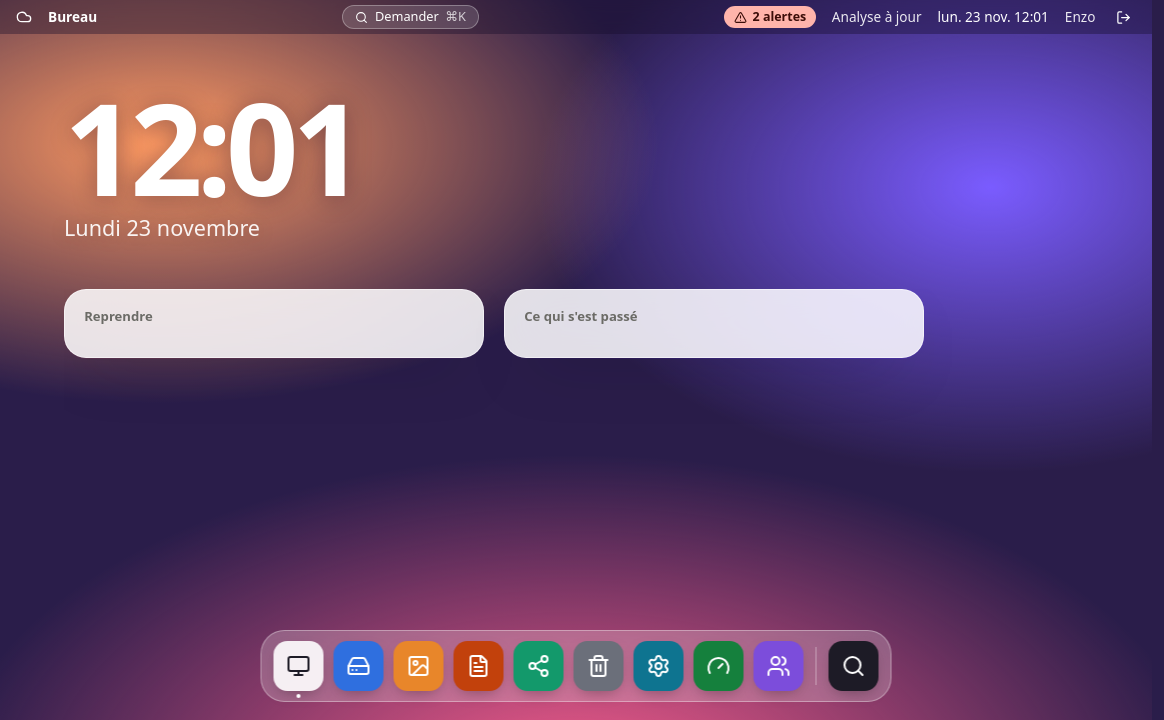
Test: Desktop › shows the admin a badge of alerts that opens État de la box, instead of a backup status it did not know
The width and height of the screenshot is (1164, 720).
What coordinates should you click on to do the following:
click the button with aria-label "2 alertes : voir l’état de la box"
I would click on:
 (770, 17)
Its box is [724,6,816,28].
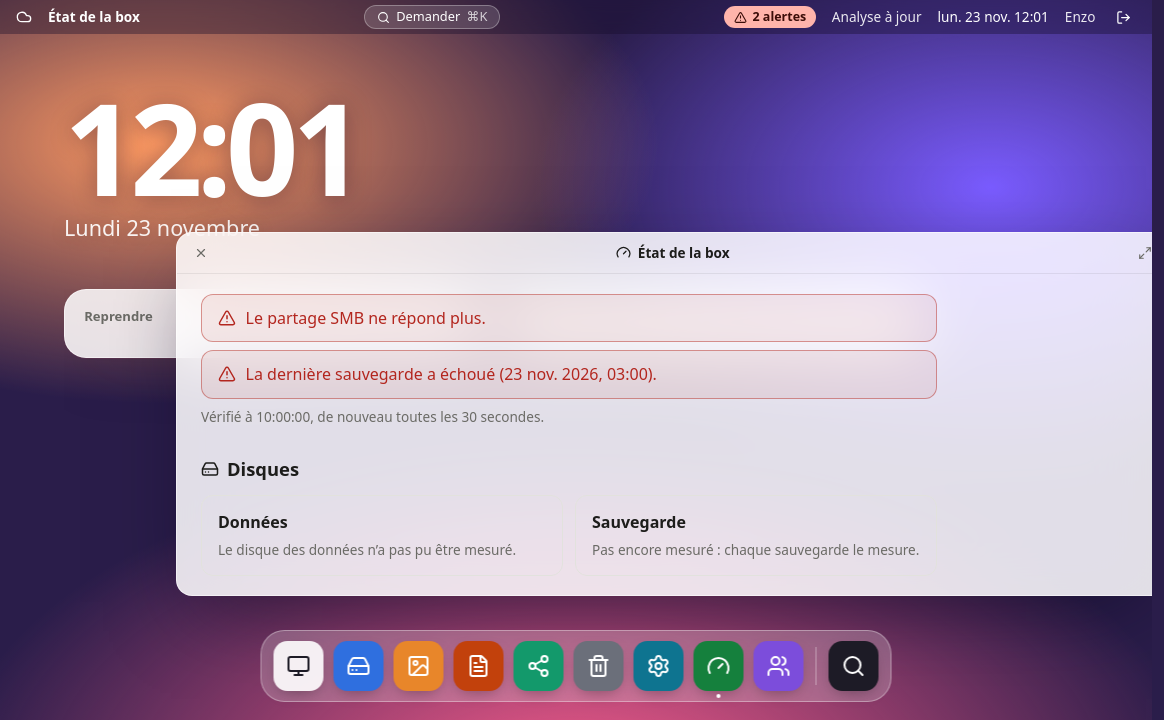
Check: the list item "Le partage SMB ne répond plus." is shown, box [201,294,937,342]
Check: the list item "La dernière sauvegarde a échoué" is shown, box [246,363,657,385]
What coordinates should you click on to do the following:
click the button named "Comptes"
I would click on:
 (778, 666)
Its box is [754,641,804,691].
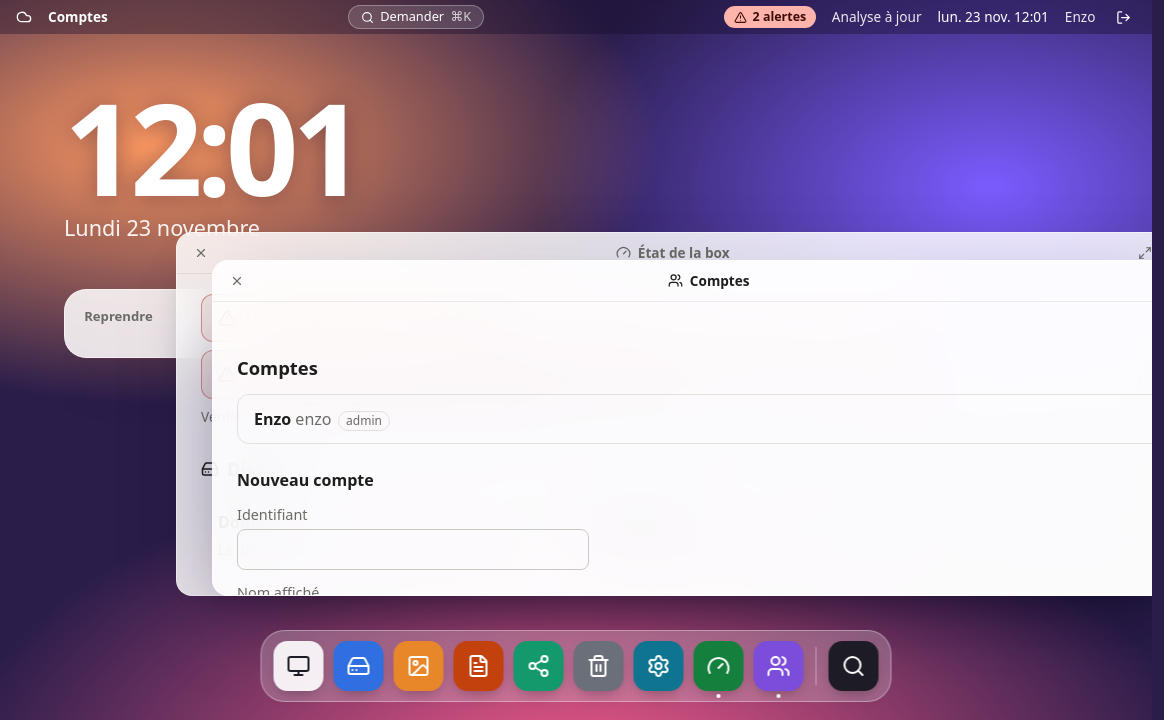
Check: the text "Enzo" in the row of "admin" is shown, box [254,408,291,430]
